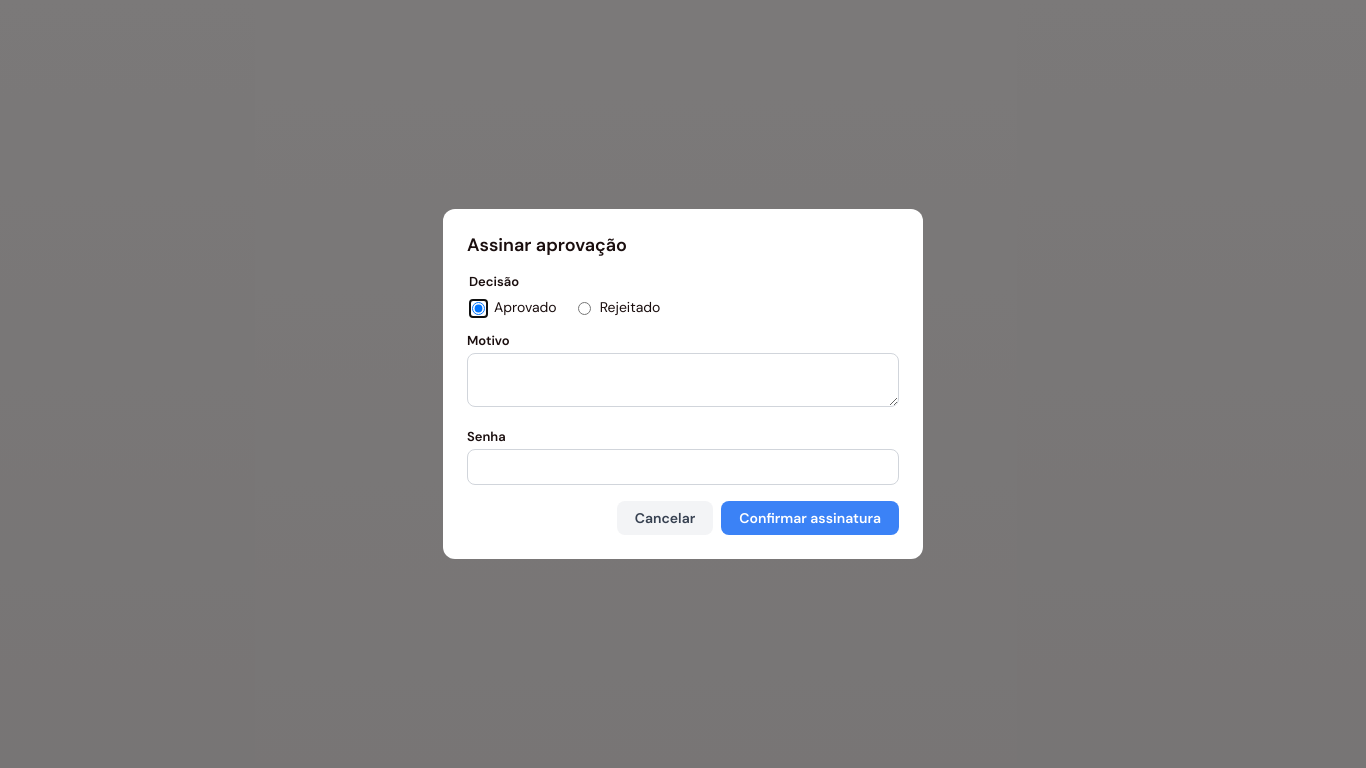
SignoffDialog › validation — reject without reason shows inline error, submit blocked
The width and height of the screenshot is (1366, 768).
Step 1. Click the radio button labelled "Rejeitado" → (584,308), box top-left (578, 302), bottom-right (591, 315)
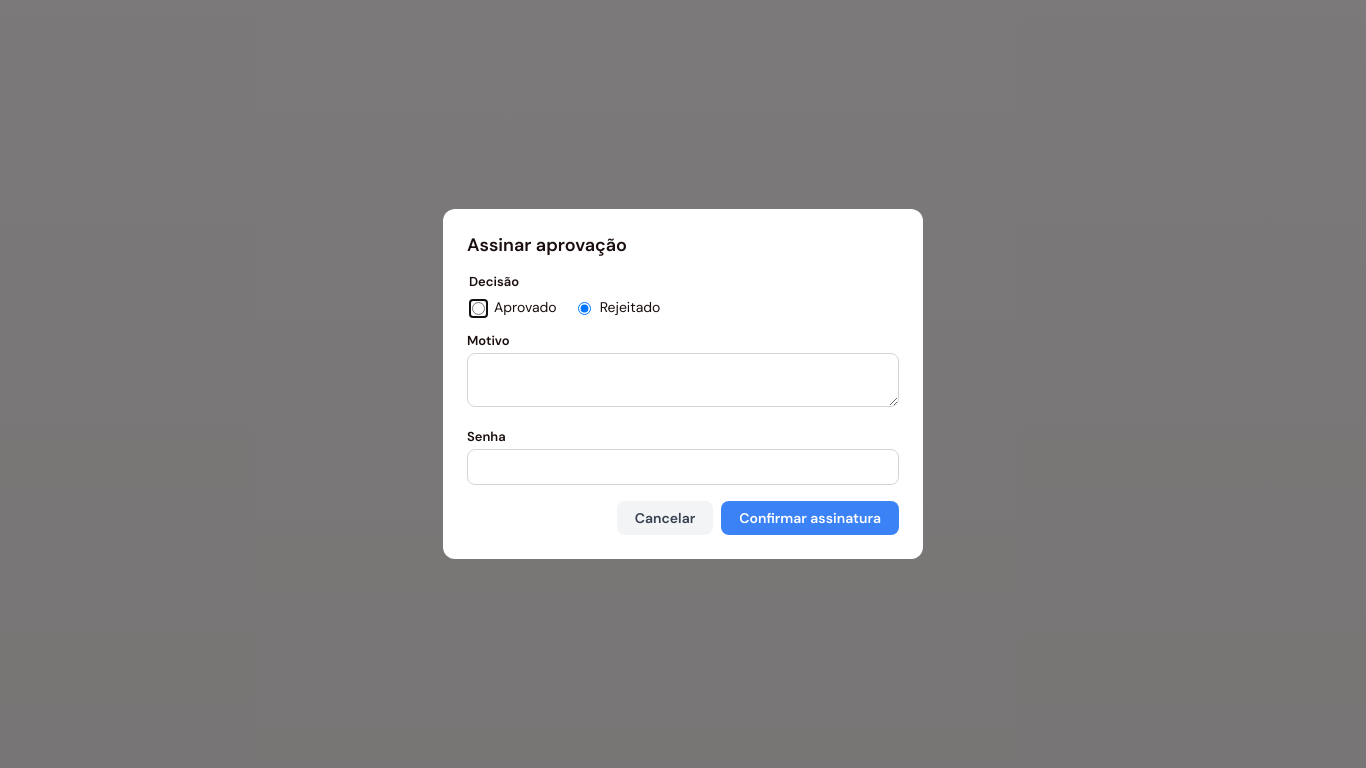
Step 2. Type "secret" into the password field labelled "Senha" → (683,467), box top-left (467, 449), bottom-right (899, 485)
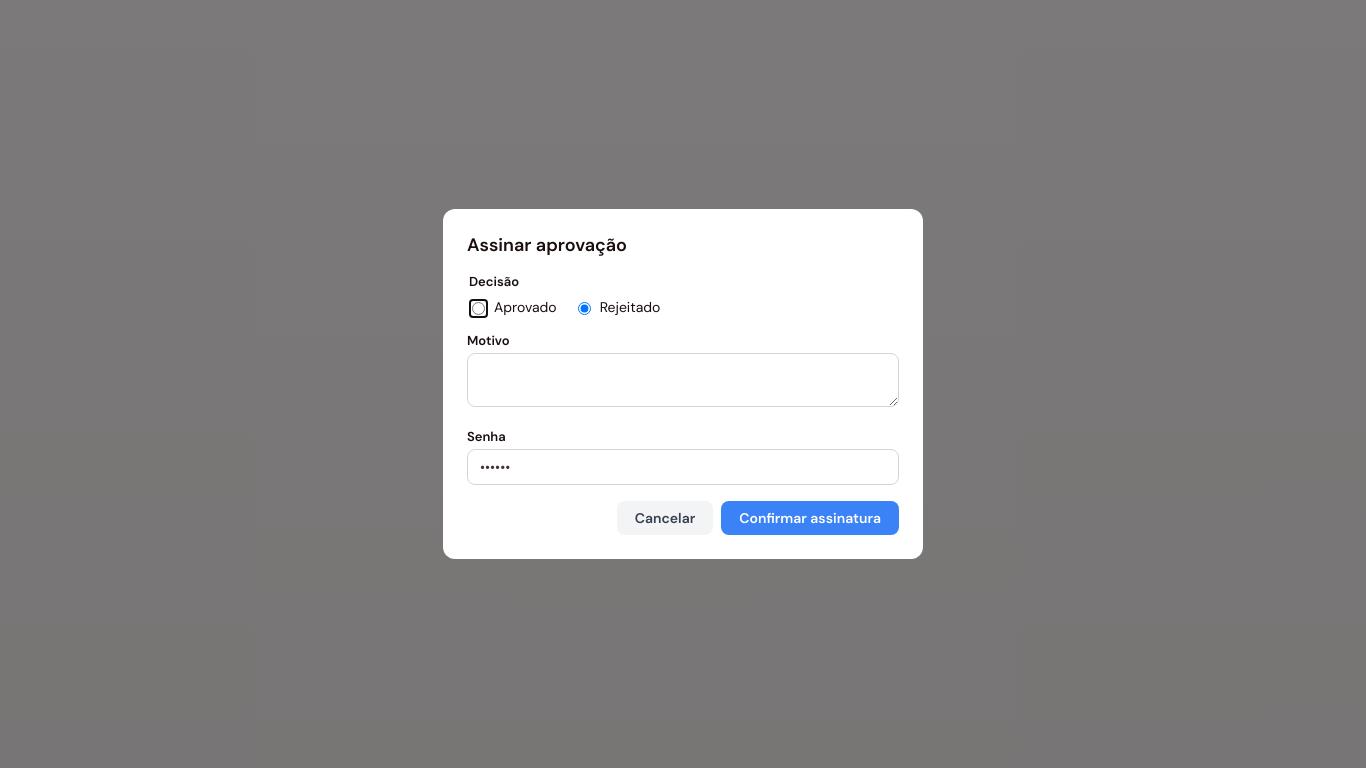
Step 3. Click the button "Confirmar assinatura" → (810,518), box top-left (721, 501), bottom-right (899, 535)
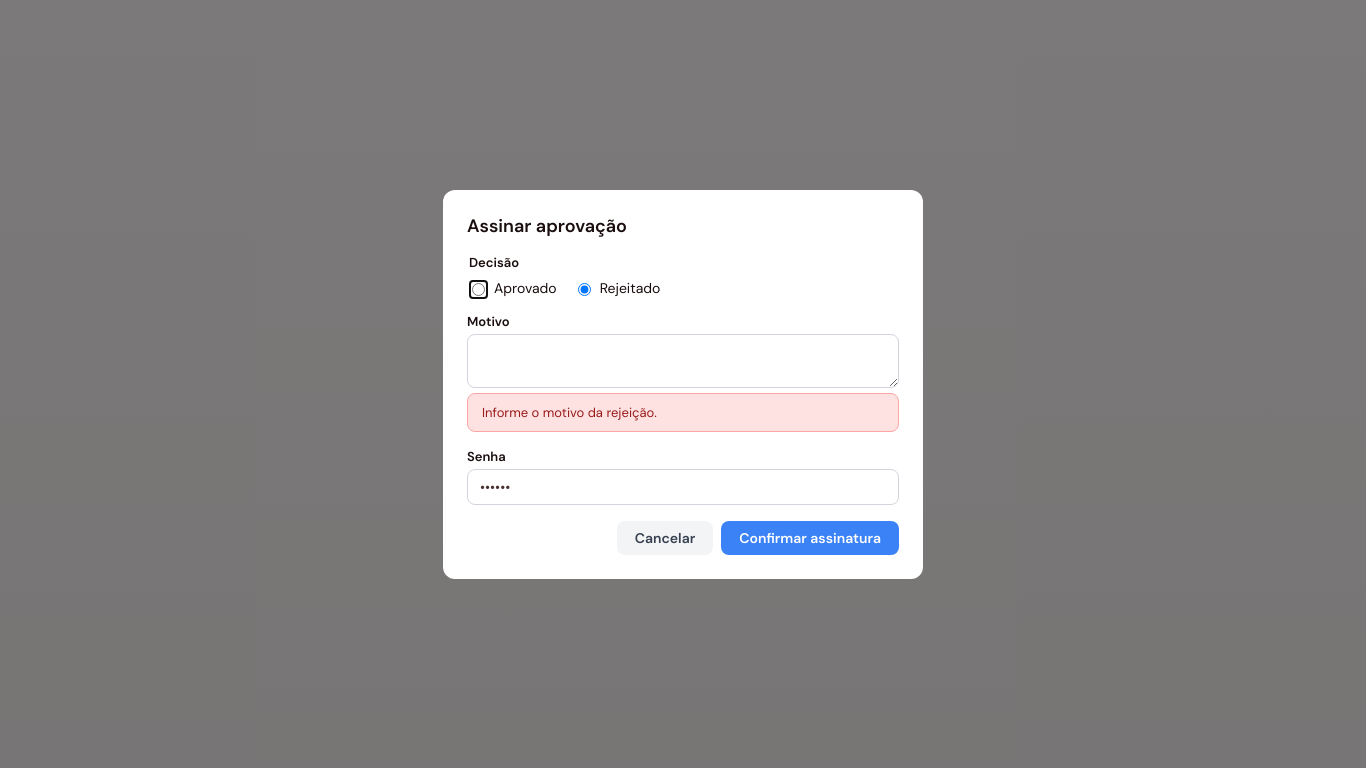
expect the text "Informe o motivo da rejeição." is shown: met, box top-left (467, 392), bottom-right (899, 432)
